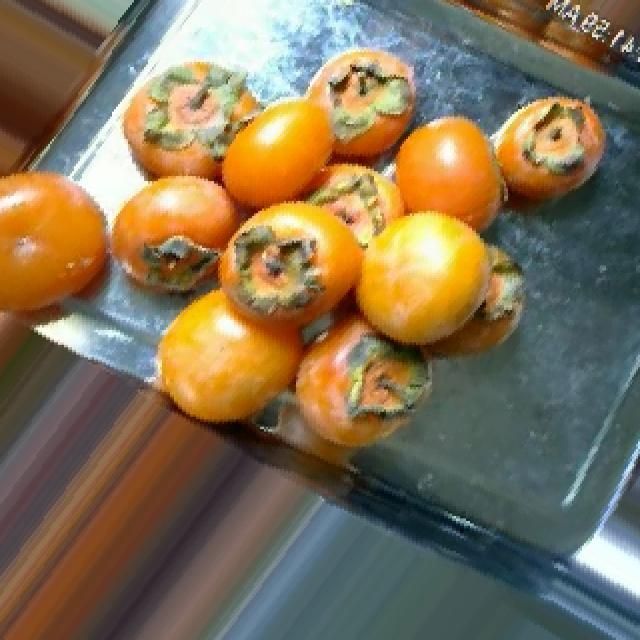Fruit: (0, 139, 134, 362), (374, 94, 522, 286), (138, 273, 290, 446), (484, 77, 624, 223), (418, 0, 588, 52)
